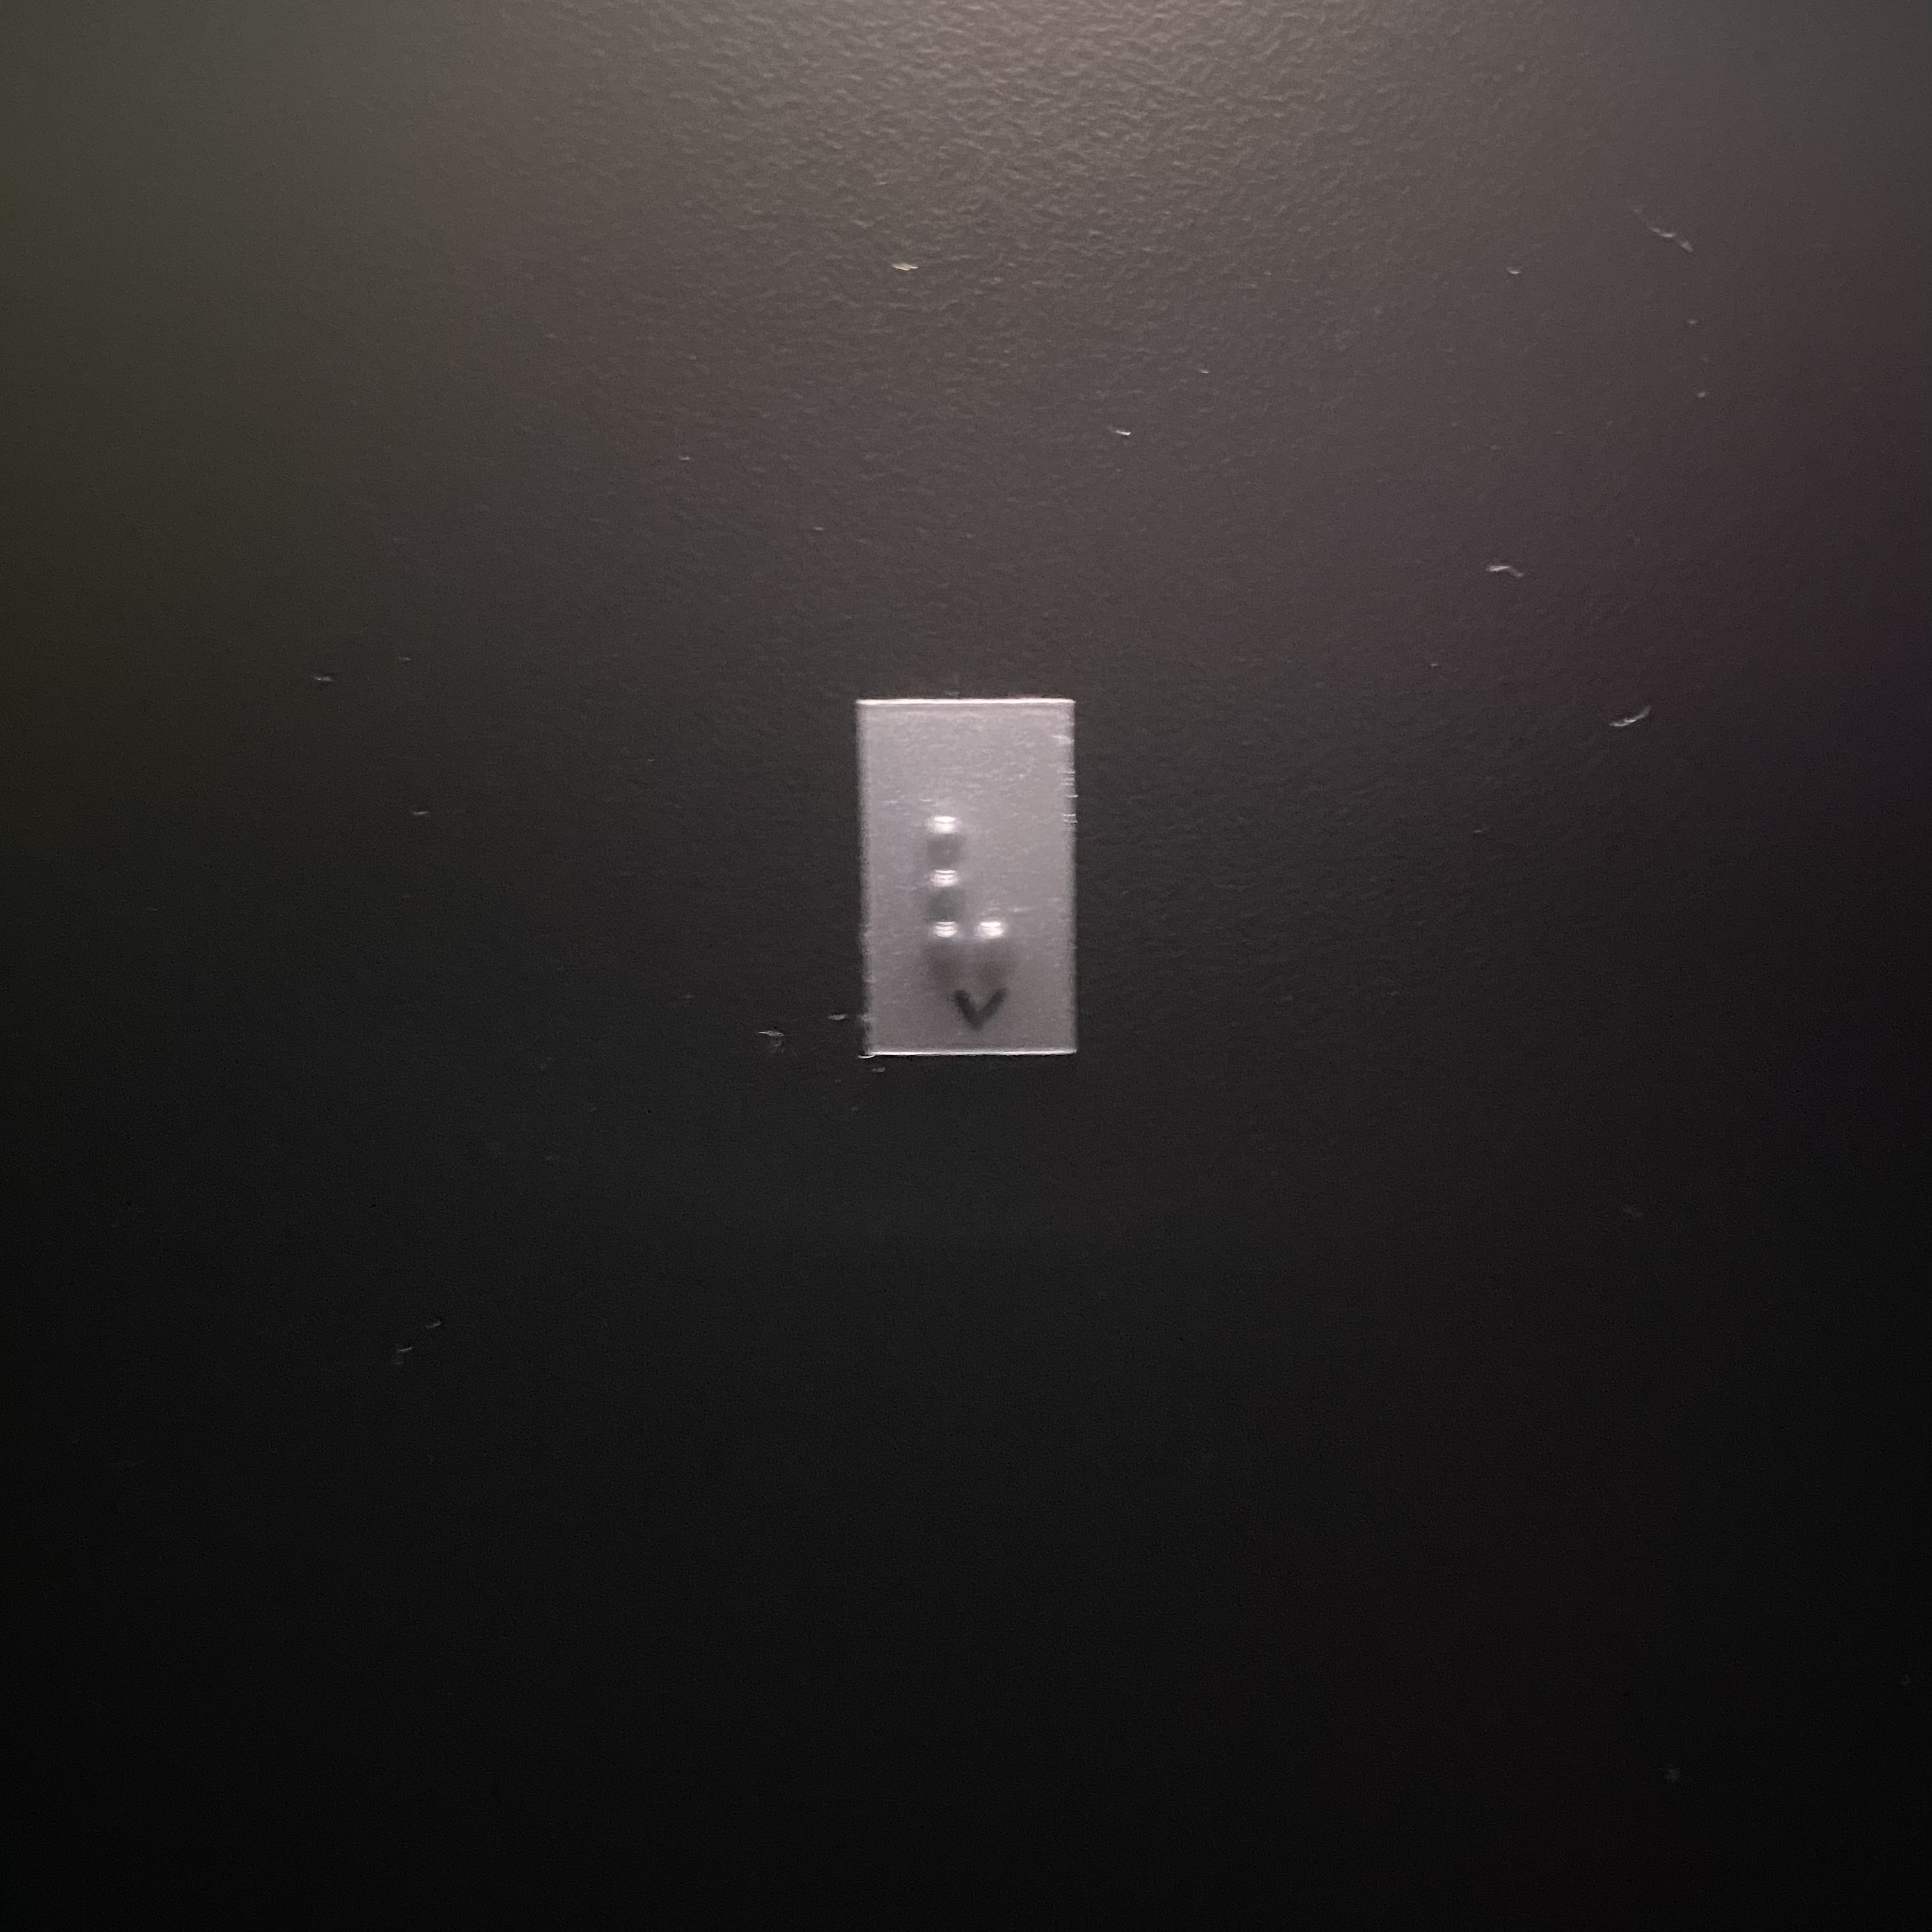v: (911, 799, 1021, 987)
